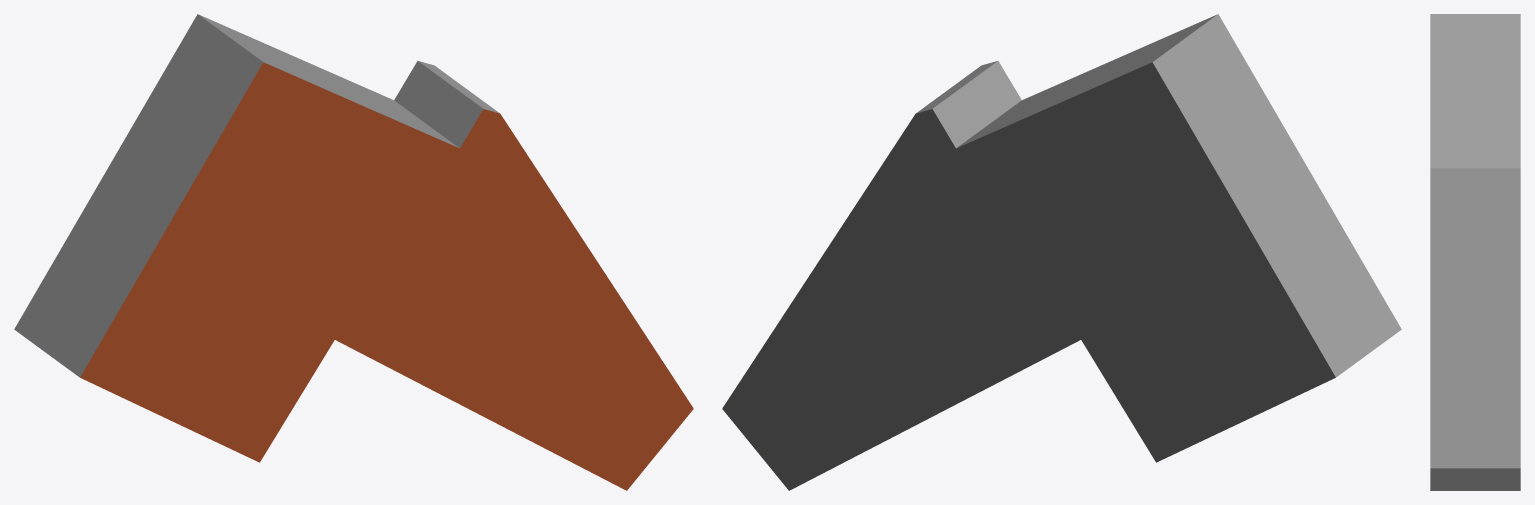
The model's file is construction_2659_assumed_A_Casa_h6m.obj.
3 renders of one model, left to right at view 1: azimuth 30°, elevation 25°; view 2: azimuth 150°, elevation 25°; view 3: azimuth 270°, elevation 25°, orthographic. The views are drawn at different scales.
Visible parts, largest first — view 1: construction_2659_assumed_A_Casa; view 2: construction_2659_assumed_A_Casa; view 3: construction_2659_assumed_A_Casa.
Boxes of the visible parts, x1,y1,x2,y2 form: construction_2659_assumed_A_Casa: (14,14,693,490); construction_2659_assumed_A_Casa: (722,14,1401,490); construction_2659_assumed_A_Casa: (1430,14,1520,490).
Bounding box in the file's own units: 32.29 × 26.01 × 6.
